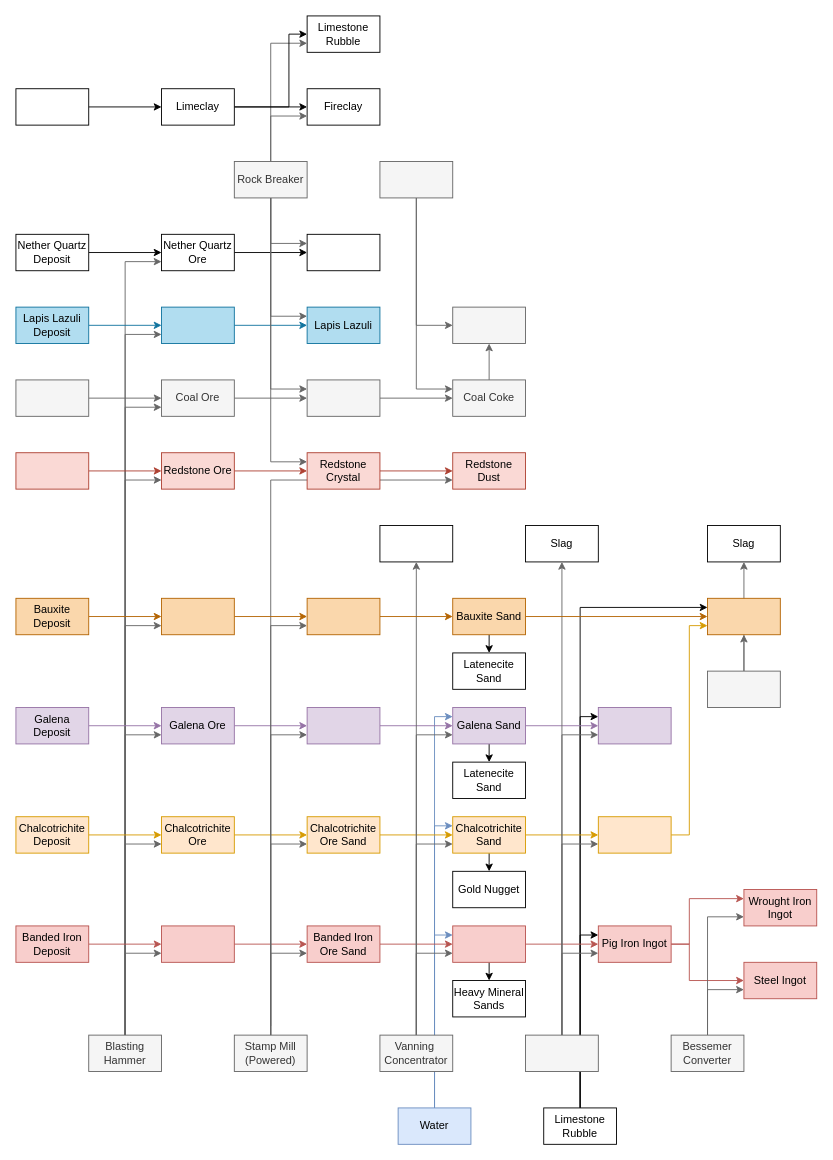
Some shapes in this 833 by 1160 pixel diagram are drawn without their labels. Here are the shapes that lost their labels. From the top down, the box of each, then its label:
(15, 88, 89, 125): Limeclay Deposit
(379, 161, 453, 198): Coke Oven
(306, 233, 380, 271): Nether Quartz
(161, 306, 234, 344): Lapis Lazuli Ore
(452, 306, 526, 344): Creosote Oil
(15, 379, 89, 416): Coal Deposit
(306, 379, 380, 416): Coal
(15, 452, 89, 489): Redstone Deposit
(379, 525, 453, 562): Stamp Sand
(161, 597, 234, 635): Bauxite Ore
(306, 597, 380, 635): Bauxite Ore Sand
(707, 597, 780, 635): Duralumin Ingot
(707, 670, 780, 708): Arc Furnace (Smelting)
(306, 707, 380, 744): Galena Ore Sand
(597, 707, 671, 744): Lead Ingot
(597, 816, 671, 853): Copper Ingot
(161, 925, 234, 962): Banded Iron Ore
(452, 925, 526, 962): Banded Iron Sand
(525, 1034, 598, 1072): Blast Furnace (Smelting)
